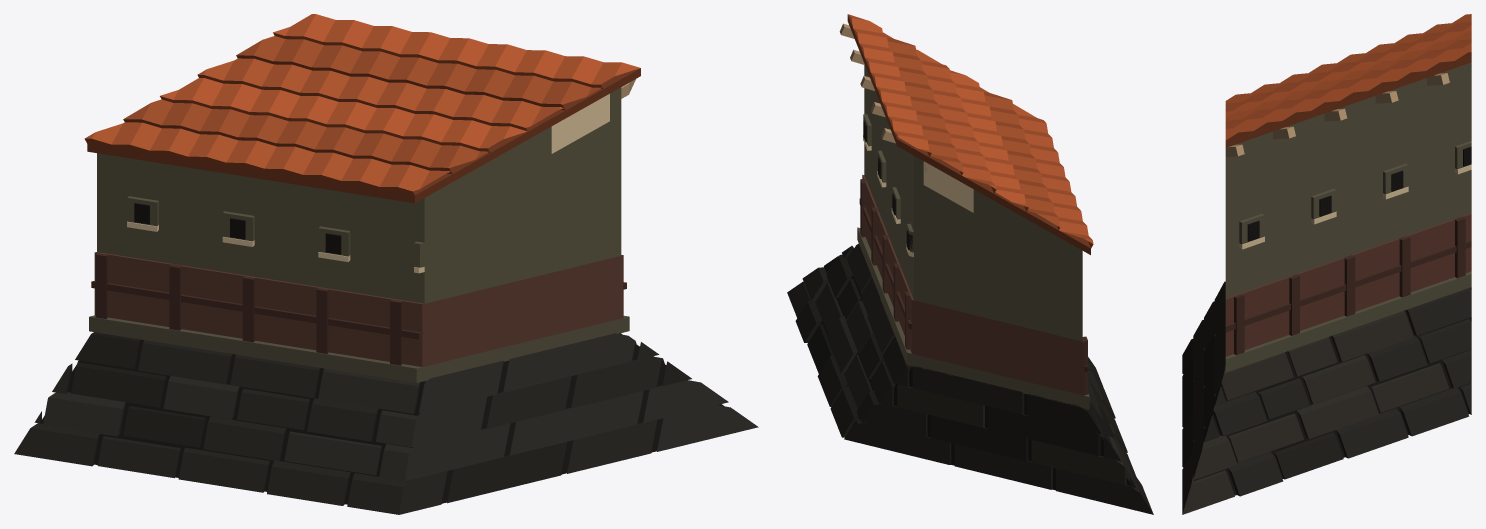
File: VerWall11.glb
3 views of the same model, side by side, from view 1: azimuth 30°, elevation 25°; view 2: azimuth 150°, elevation 25°; view 3: azimuth 270°, elevation 25° (orthographic). The views are drawn at different scales.
Parts seen in each view (by area): view 1: VerWall11_mortar; view 2: VerWall11_mortar; view 3: VerWall11_mortar.
Part boxes in pixels (left/top/right/bottom): VerWall11_mortar: left=14, top=14, right=758, bottom=514; VerWall11_mortar: left=787, top=14, right=1153, bottom=514; VerWall11_mortar: left=1182, top=14, right=1471, bottom=514.
Size of the model in its own units: 9.28 by 5.57 by 4.35.
